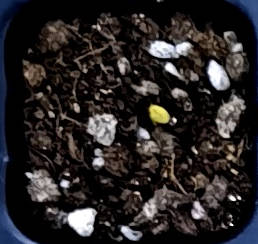pepper seed: (61, 40, 233, 166)
